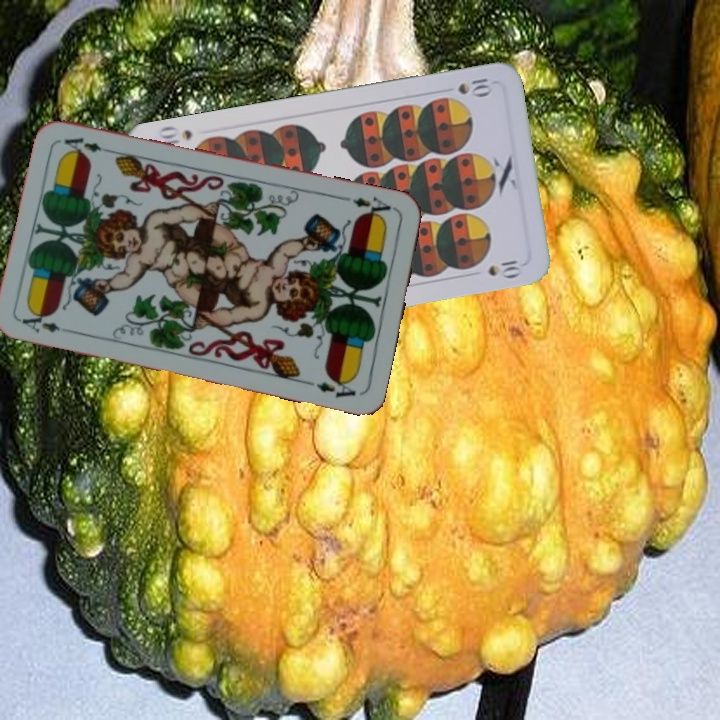EA: (18, 307, 76, 336), (348, 192, 399, 222)
S10: (454, 74, 496, 99)
